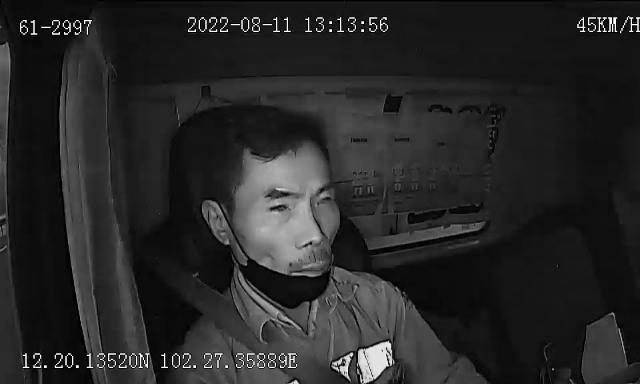SafeDriving: (418, 96, 474, 122), (309, 186, 339, 212), (265, 195, 298, 216)
Seatbelt: (195, 276, 347, 384)
